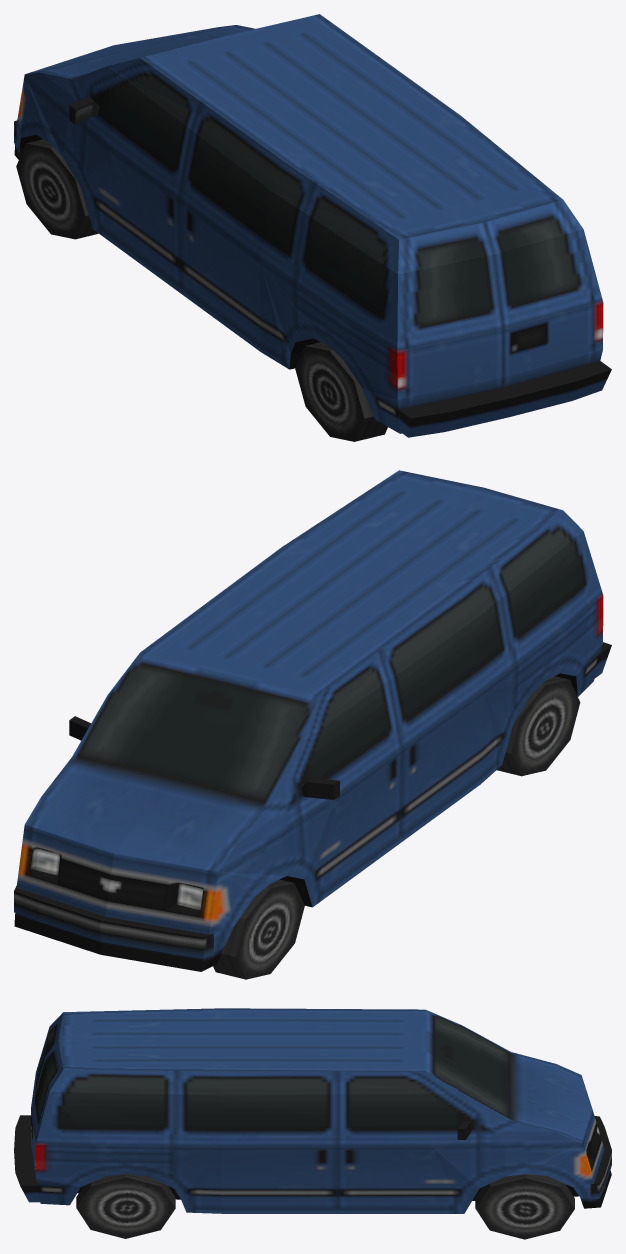
File: Car4_o3.obj
3 renders of one model, top to bottom at view 1: azimuth 30°, elevation 25°; view 2: azimuth 150°, elevation 25°; view 3: azimuth 270°, elevation 25°, orthographic. The views are drawn at different scales.
Visible parts, largest first — view 1: Car4; view 2: Car4; view 3: Car4.
Part boxes in pixels (x1,y1,x2,y2): Car4: (14, 14, 611, 441); Car4: (14, 470, 611, 979); Car4: (14, 1008, 611, 1239).
Bounding box in the file's own units: 1.98 × 1.6 × 5.37.
